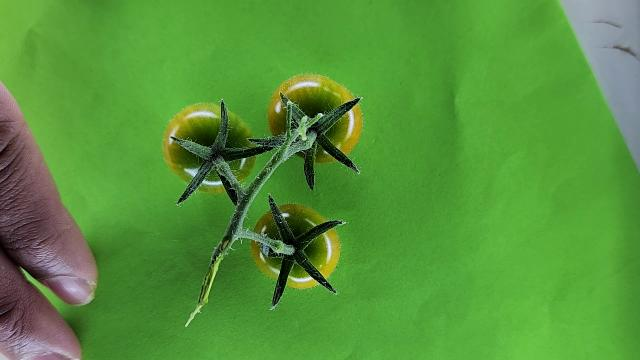Fully Grown: (267, 72, 363, 164), (162, 102, 258, 194), (251, 202, 341, 289)
